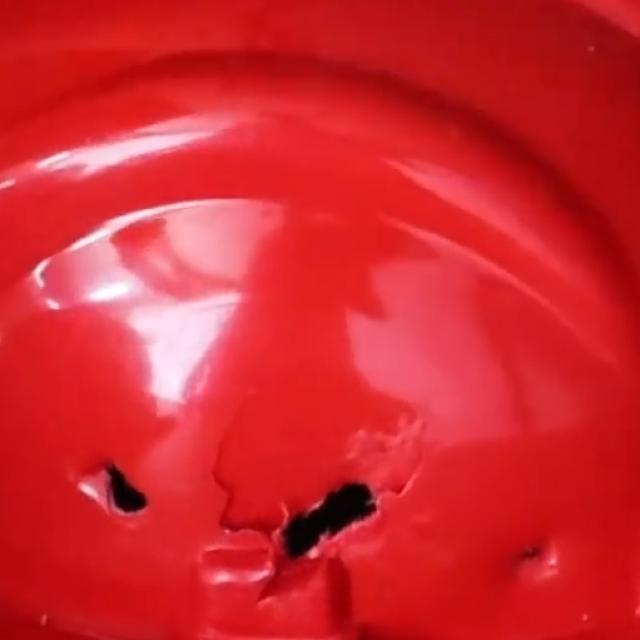bullets: (318, 471, 379, 545), (272, 504, 329, 564), (98, 466, 160, 521), (509, 538, 560, 588)
